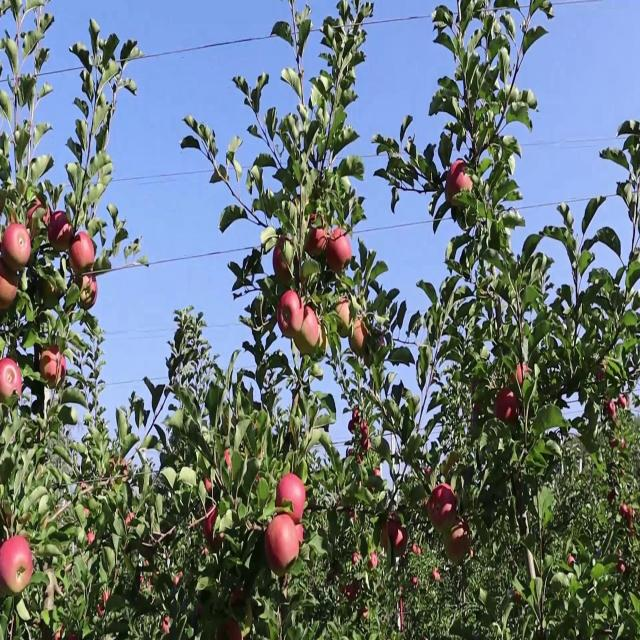apple: (265, 513, 299, 576), (0, 536, 32, 597), (276, 473, 306, 524), (428, 482, 458, 531), (1, 222, 31, 271), (294, 304, 321, 353), (278, 289, 304, 338), (442, 520, 470, 564), (39, 344, 66, 388), (326, 229, 351, 273), (69, 231, 95, 273), (48, 211, 74, 251), (305, 213, 328, 258), (272, 236, 294, 283), (0, 258, 19, 308), (0, 358, 22, 401), (494, 387, 519, 424), (205, 507, 224, 553), (204, 504, 222, 551), (349, 318, 369, 356), (26, 198, 45, 238), (39, 278, 61, 309), (80, 273, 98, 309), (336, 298, 351, 338), (510, 362, 531, 387), (224, 618, 242, 640), (55, 347, 66, 379), (344, 582, 360, 602), (620, 502, 635, 522), (604, 398, 616, 422), (616, 551, 628, 573), (610, 438, 626, 451), (42, 204, 52, 224), (368, 551, 379, 569), (295, 524, 304, 543), (351, 551, 361, 567), (161, 616, 170, 633), (224, 449, 231, 469), (195, 602, 202, 618)
